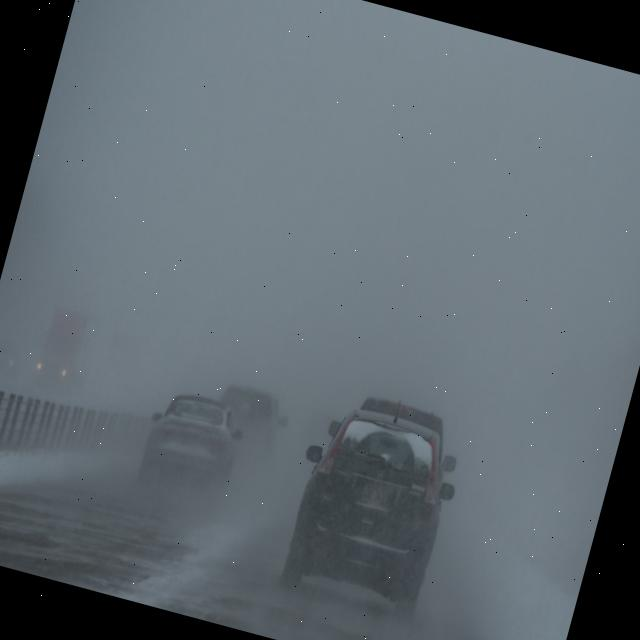bus: (24, 298, 95, 404)
car: (274, 396, 468, 614), (322, 383, 470, 483), (136, 384, 250, 494), (207, 380, 289, 462), (0, 337, 24, 376)
